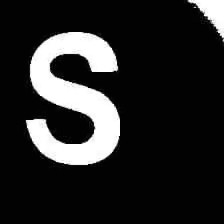LTR_S: (22, 28, 122, 168)
